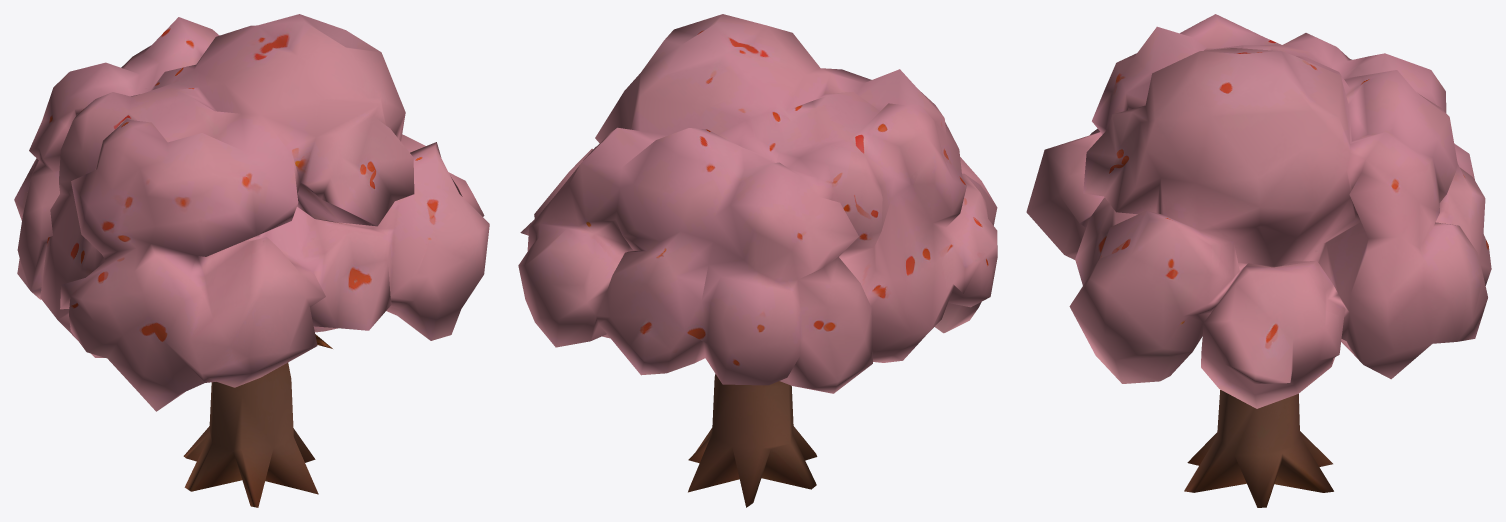
File: SM_Env_CherryBlossom_01.glb
3 renders of one model, left to right at view 1: azimuth 30°, elevation 25°; view 2: azimuth 150°, elevation 25°; view 3: azimuth 270°, elevation 25°, orthographic. The views are drawn at different scales.
Visible parts, largest first — view 1: tripo_node_30612f9c-e83e-4597-b225-af7a5072af93; view 2: tripo_node_30612f9c-e83e-4597-b225-af7a5072af93; view 3: tripo_node_30612f9c-e83e-4597-b225-af7a5072af93.
Boxes of the visible parts, <box> form: tripo_node_30612f9c-e83e-4597-b225-af7a5072af93: <box>14,14,489,507</box>; tripo_node_30612f9c-e83e-4597-b225-af7a5072af93: <box>518,14,997,507</box>; tripo_node_30612f9c-e83e-4597-b225-af7a5072af93: <box>1026,14,1491,507</box>.
Bounding box in the file's own units: 1 × 0.9743 × 0.9191.
Materials: 1 (1 with a texture image).
